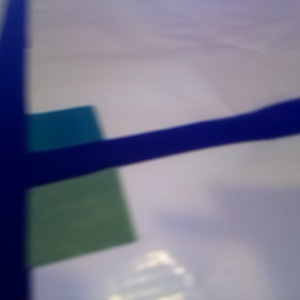bottom_right: (1, 154, 136, 268), (1, 105, 102, 172)
